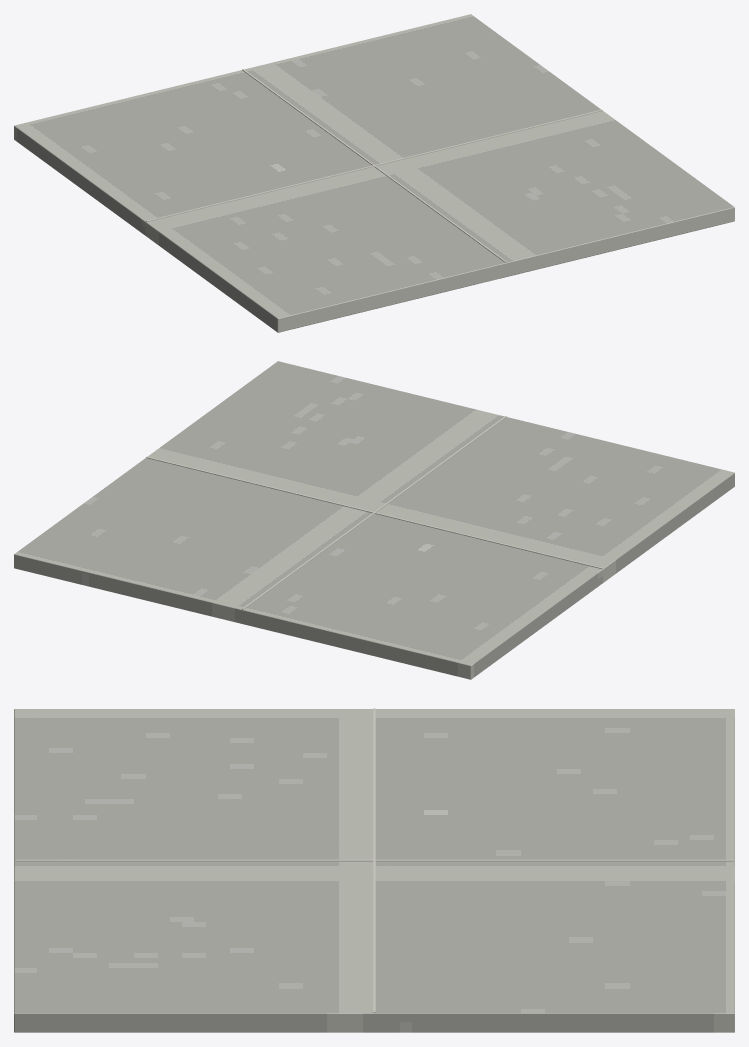
Rendered from pool_ceiling_panel_module.glb.
The picture shows the model from 3 angles, top to bottom: view 1: azimuth 30°, elevation 25°; view 2: azimuth 150°, elevation 25°; view 3: azimuth 270°, elevation 25°; orthographic projection. The views are drawn at different scales.
Parts seen in each view (by area): view 1: pool_pool_ceiling_panel_module; view 2: pool_pool_ceiling_panel_module; view 3: pool_pool_ceiling_panel_module.
Part boxes in pixels (left/top/right/bottom): pool_pool_ceiling_panel_module: left=14, top=14, right=734, bottom=332; pool_pool_ceiling_panel_module: left=14, top=361, right=734, bottom=679; pool_pool_ceiling_panel_module: left=14, top=708, right=734, bottom=1032.
Bounding box in the file's own units: 0.6 × 0.019 × 0.6.
2 materials, 2 textured.
